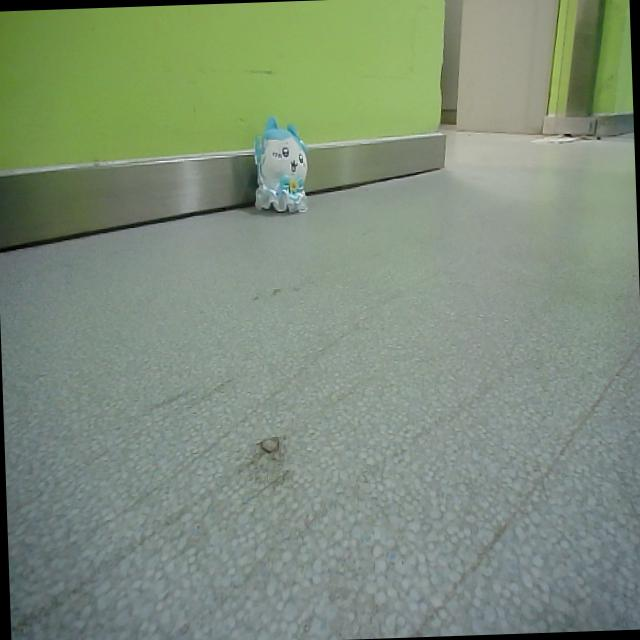xiaoba: (246, 114, 311, 220)
